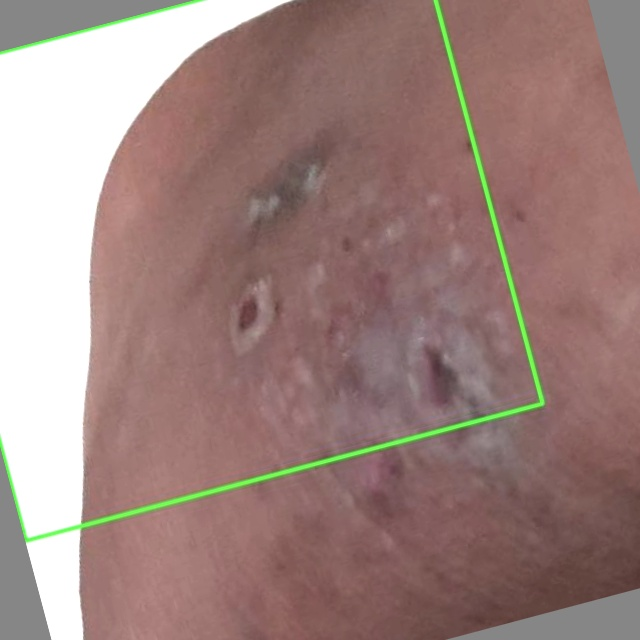Eczema: (0, 0, 542, 540)
